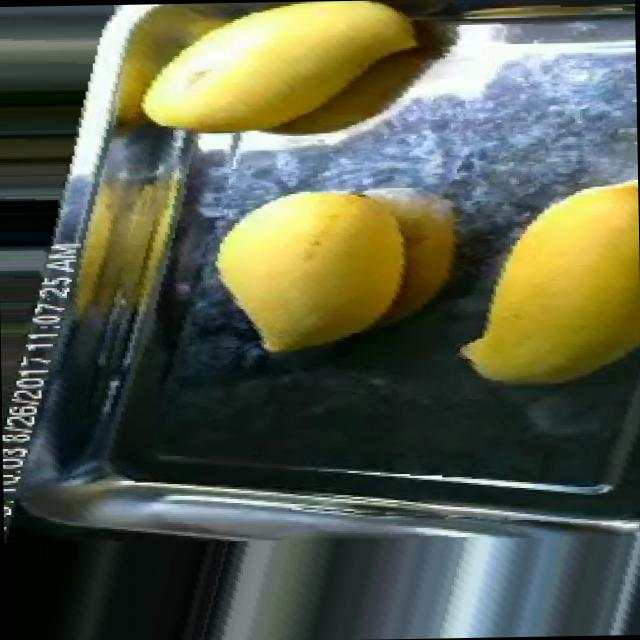fruit: (193, 160, 435, 372), (118, 0, 439, 157), (449, 154, 640, 409)
